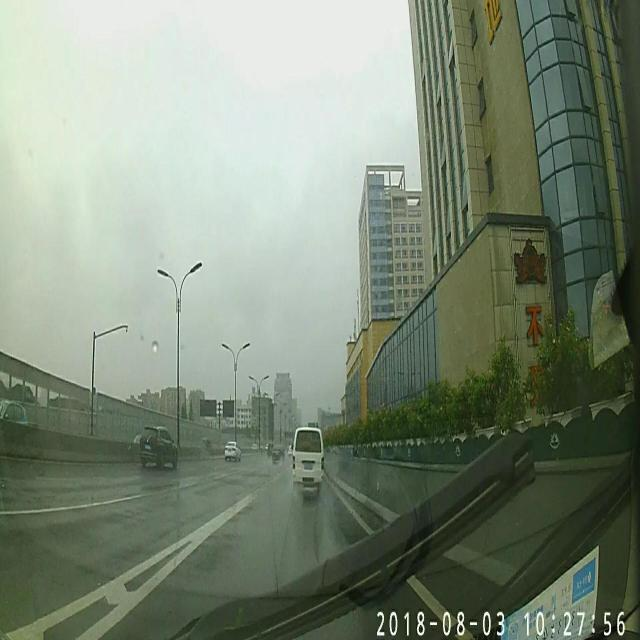car: (292, 426, 325, 492), (138, 424, 179, 470), (0, 399, 28, 427), (225, 440, 242, 460), (270, 442, 284, 462)
